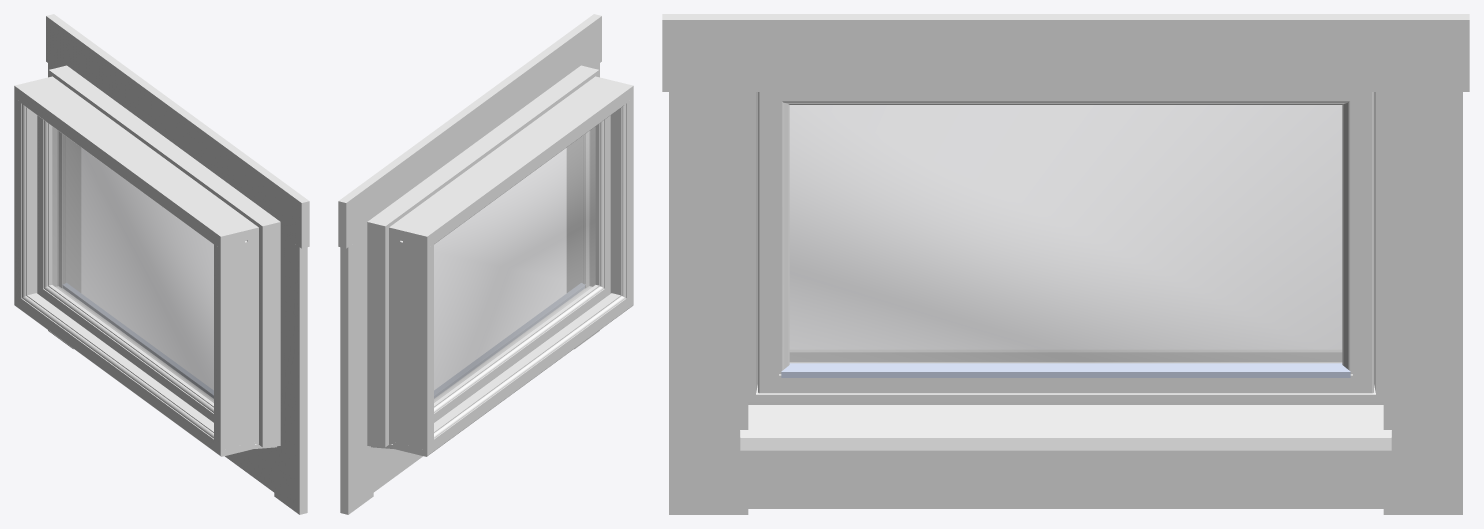
3 renders of one model, left to right at view 1: azimuth 30°, elevation 25°; view 2: azimuth 150°, elevation 25°; view 3: azimuth 270°, elevation 25°, orthographic. The views are drawn at different scales.
Parts seen in each view (by area): view 1: clear glass_clonedChild, clear glass, accentcolor_cornerboard_material-4, window_material-3, window_material-2[1], color[1], window_material, accentcolor_cornerboard_material-3[1], window_material-5, window_material-2, accentcolor_cornerboard_material, window_material-4 (+4 smaller); view 2: clear glass_clonedChild, clear glass, accentcolor_cornerboard_material-4, window_material-3, window_material-2, color, window_material, accentcolor_cornerboard_material-3, window_material-5[1], window_material-2[1], accentcolor_cornerboard_material, window_material-4 (+4 smaller); view 3: clear glass-2_clonedChild, clear glass-2, accentcolor_cornerboard_material-4, accentcolor_cornerboard_material-5, color, color[1], matte steel, window_material-4, window_material-5[1], window_material-5, satin finish aluminum, window_material-6 (+3 smaller).
Boxes of the visible parts, box(x1,y1,x2,y2) form: clear glass_clonedChild: box(53, 127, 213, 402); clear glass: box(53, 128, 213, 401); accentcolor_cornerboard_material-4: box(46, 14, 309, 248); window_material-3: box(14, 76, 258, 248); window_material-2[1]: box(214, 239, 258, 449); color[1]: box(274, 233, 307, 514); window_material: box(14, 293, 258, 456); accentcolor_cornerboard_material-3[1]: box(256, 217, 280, 447); window_material-5: box(37, 115, 65, 297); window_material-2: box(14, 97, 37, 303); accentcolor_cornerboard_material: box(55, 70, 273, 224); window_material-4: box(43, 285, 213, 422); clear glass_clonedChild: box(434, 127, 594, 402); clear glass: box(434, 128, 594, 401); accentcolor_cornerboard_material-4: box(338, 14, 601, 248); window_material-3: box(389, 76, 633, 248); window_material-2: box(389, 239, 433, 449); color: box(340, 233, 373, 514); window_material: box(389, 293, 633, 456); accentcolor_cornerboard_material-3: box(367, 217, 391, 447); window_material-5[1]: box(582, 115, 610, 297); window_material-2[1]: box(610, 97, 633, 303); accentcolor_cornerboard_material: box(374, 70, 592, 224); window_material-4: box(434, 285, 604, 422); clear glass-2_clonedChild: box(790, 105, 1341, 362); clear glass-2: box(790, 105, 1341, 362); accentcolor_cornerboard_material-4: box(662, 14, 1469, 91); accentcolor_cornerboard_material-5: box(748, 450, 1383, 508); color: box(1383, 92, 1462, 514); color[1]: box(669, 92, 748, 514); matte steel: box(740, 402, 1391, 450); window_material-4: box(779, 350, 1352, 393); window_material-5[1]: box(758, 92, 789, 393); window_material-5: box(1342, 92, 1373, 393); satin finish aluminum: box(781, 363, 1350, 377); window_material-6: box(779, 92, 1352, 104).
Bounding box in the file's own units: 0.1871 × 0.825 × 1.22.
Materials: 20 (15 with a texture image).
